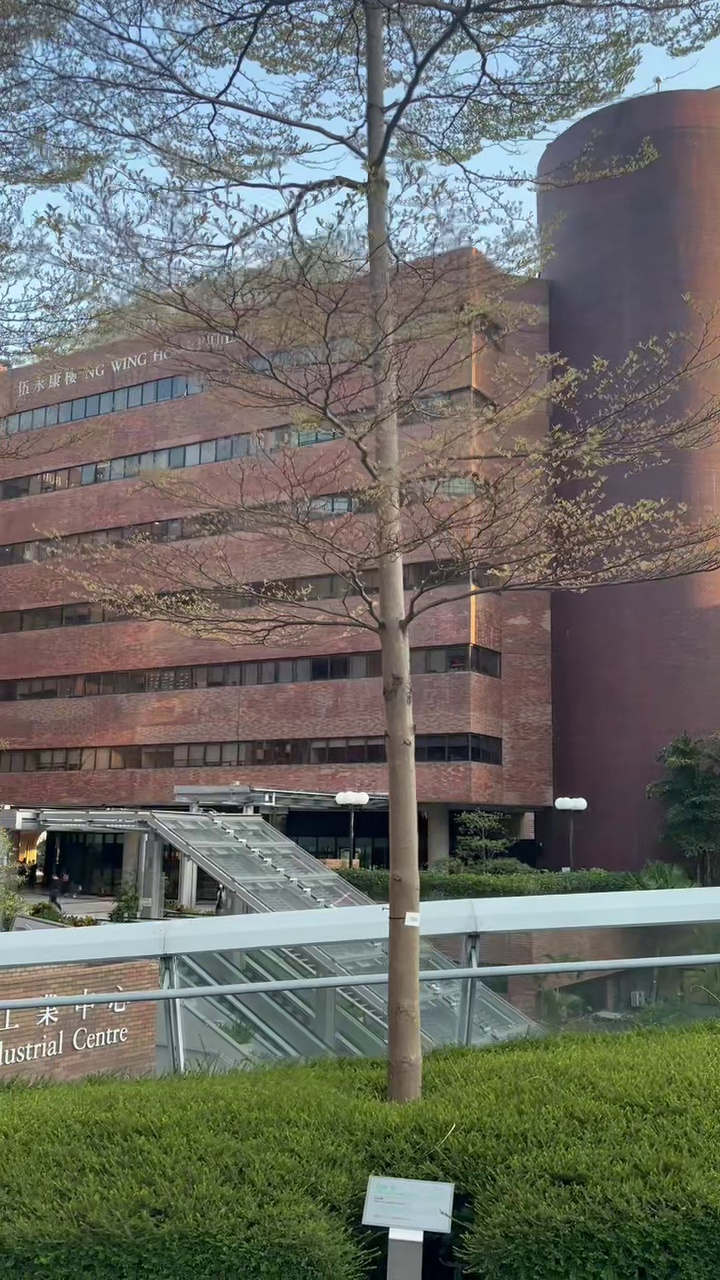Terminalia mantaly: (31, 0, 719, 1100)
